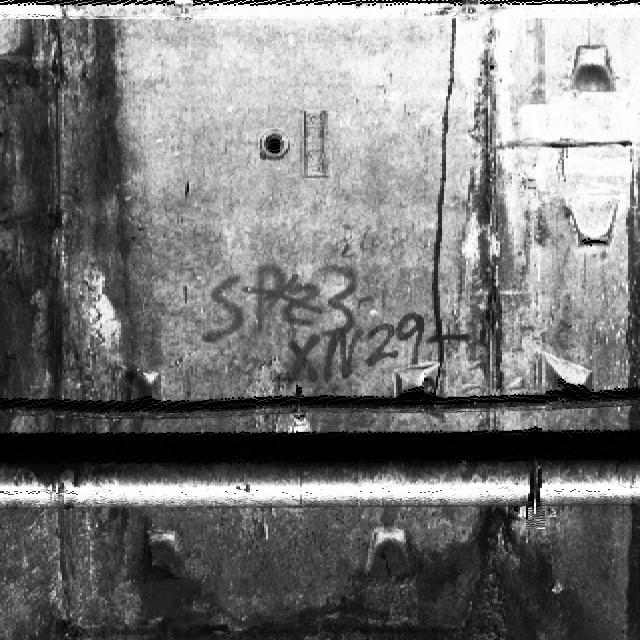leakage: (0, 495, 639, 639), (0, 0, 167, 430), (452, 21, 544, 431), (615, 149, 639, 431)
